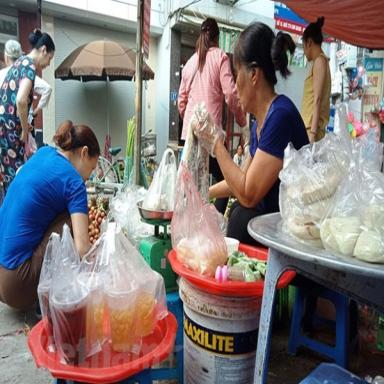plasticbag: (42, 206, 180, 373), (272, 97, 383, 258), (28, 228, 93, 348), (167, 166, 230, 278), (141, 145, 179, 221), (186, 100, 228, 164)
